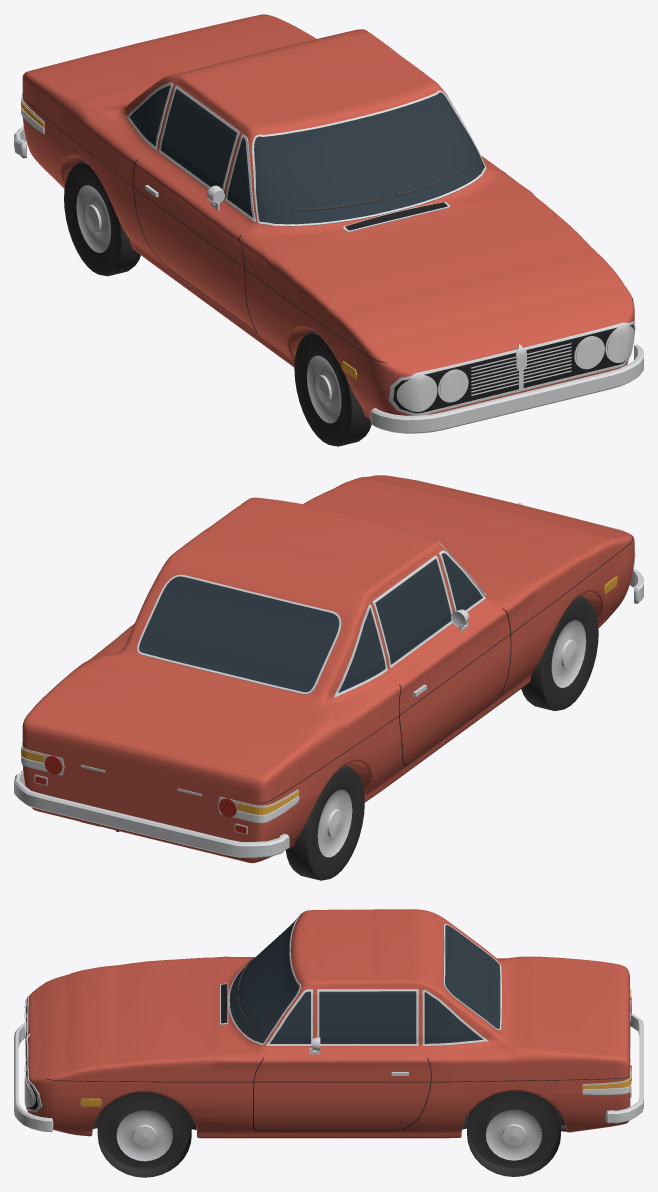
File: fulvia.glb
3 views of the same model, one above another, from view 1: azimuth 30°, elevation 25°; view 2: azimuth 150°, elevation 25°; view 3: azimuth 270°, elevation 25° (orthographic). The views are drawn at different scales.
Visible parts, largest first — view 1: paint, glass, trim, wheel_fr, wheel_rr, headlights; view 2: paint, glass, trim, wheel_rr, wheel_fr, taillights, reverse_lights; view 3: paint, glass, trim, wheel_rl, wheel_fl.
Boxes of the visible parts, x1,y1,x2,y2 form: paint: [22, 14, 634, 418]; glass: [129, 85, 484, 224]; trim: [14, 35, 643, 433]; wheel_fr: [294, 331, 371, 446]; wheel_rr: [64, 161, 140, 276]; headlights: [399, 328, 634, 410]; paint: [22, 475, 634, 863]; glass: [139, 553, 484, 692]; trim: [14, 480, 643, 857]; wheel_rr: [285, 765, 364, 880]; wheel_fr: [521, 596, 598, 710]; taillights: [35, 755, 246, 833]; reverse_lights: [21, 756, 299, 821]; paint: [27, 909, 630, 1138]; glass: [229, 918, 500, 1043]; trim: [14, 913, 643, 1132]; wheel_rl: [467, 1091, 560, 1176]; wheel_fl: [97, 1092, 191, 1177].
Size of the model in its own units: 1.57 by 1.3 by 3.97.
